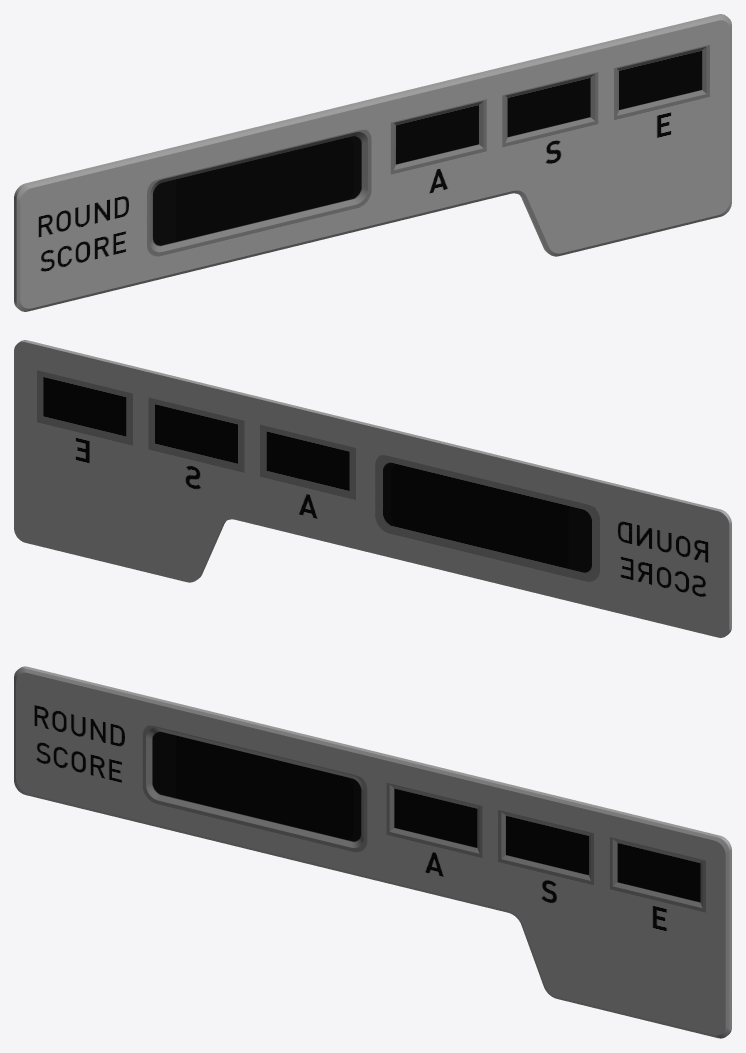
The model's file is mesh_score_frame2.fbx.
The picture shows the model from 3 angles, top to bottom: view 1: azimuth 30°, elevation 25°; view 2: azimuth 150°, elevation 25°; view 3: azimuth 330°, elevation 25°; orthographic projection.
Visible parts, largest first — view 1: mesh_score_frame2; view 2: mesh_score_frame2; view 3: mesh_score_frame2.
Boxes of the visible parts, x1=… form: mesh_score_frame2: x1=14, y1=14, x2=731, y2=311; mesh_score_frame2: x1=14, y1=340, x2=731, y2=637; mesh_score_frame2: x1=14, y1=666, x2=731, y2=1038.
Bounding box in the file's own units: 649 × 174 × 5.24.
